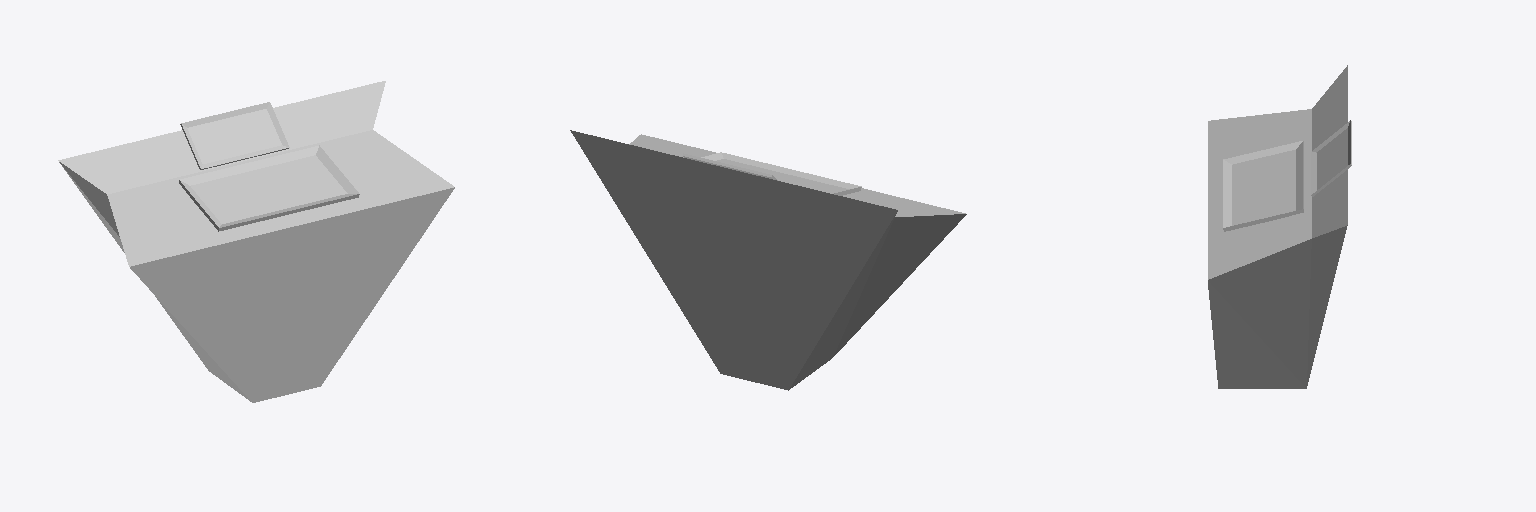
File: ResearchStation2.obj
3 renders of one model, left to right at view 1: azimuth 30°, elevation 25°; view 2: azimuth 150°, elevation 25°; view 3: azimuth 270°, elevation 25°, orthographic.
Visible parts, largest first — view 1: Bench, GameDisplay, TargetDisplay; view 2: Bench, GameDisplay; view 3: Bench, GameDisplay, TargetDisplay.
Boxes of the visible parts, x1=… form: Bench: x1=58, y1=81, x2=454, y2=402; GameDisplay: x1=179, y1=145, x2=359, y2=231; TargetDisplay: x1=180, y1=102, x2=289, y2=169; Bench: x1=570, y1=130, x2=966, y2=390; GameDisplay: x1=701, y1=152, x2=861, y2=195; Bench: x1=1208, y1=65, x2=1347, y2=388; GameDisplay: x1=1223, y1=141, x2=1303, y2=231; TargetDisplay: x1=1311, y1=120, x2=1351, y2=196.
Bounding box in the file's own units: 2.35 × 1.59 × 0.8985.